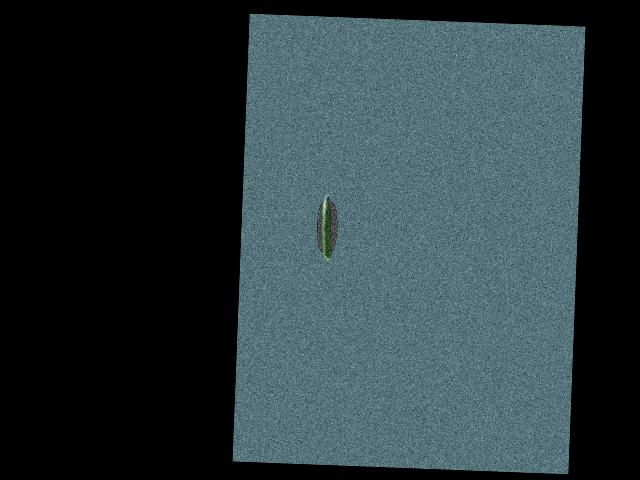cucumber: (320, 193, 334, 260)
